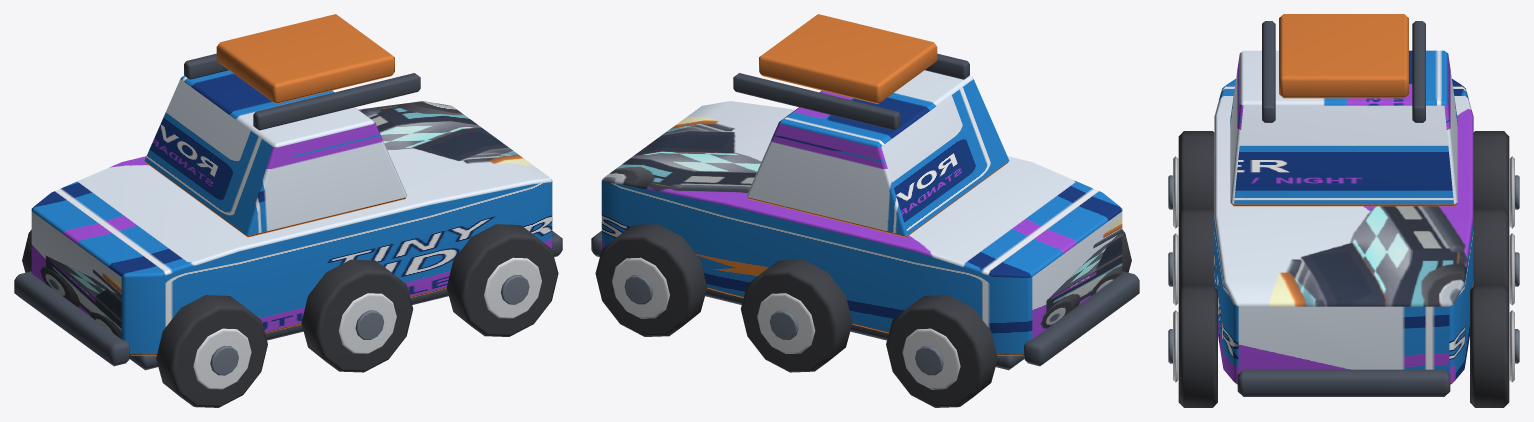
3 views of the same model, side by side, from view 1: azimuth 30°, elevation 25°; view 2: azimuth 150°, elevation 25°; view 3: azimuth 270°, elevation 25° (orthographic). The views are drawn at different scales.
Visible parts, largest first — view 1: FF-04_connected_shell, FF-04_cabin, utility load, Tire, Tire.002, Tire.004, front bumper, utility rail, Rim, Rim.004, Rim.002, underbody (+4 smaller); view 2: FF-04_connected_shell, FF-04_cabin, utility load, Tire.001, Tire.003, Tire.005, front bumper, utility rail.001, Rim.001, Rim.005, Rim.003, underbody (+4 smaller); view 3: FF-04_connected_shell, FF-04_cabin, utility load, rear bumper, Tire.004, Tire.005, Tire.002, Tire.003, Tire, Tire.001, utility rail, utility rail.001 (+6 smaller).
Part boxes in pixels (x1=…): FF-04_connected_shell: x1=31, y1=101, x2=552, y2=355; FF-04_cabin: x1=144, y1=70, x2=406, y2=237; utility load: x1=216, y1=14, x2=394, y2=103; Tire: x1=156, y1=295, x2=267, y2=407; Tire.002: x1=301, y1=259, x2=413, y2=372; Tire.004: x1=446, y1=224, x2=558, y2=336; front bumper: x1=14, y1=271, x2=130, y2=366; utility rail: x1=253, y1=73, x2=420, y2=130; Rim: x1=193, y1=328, x2=251, y2=389; Rim.004: x1=484, y1=257, x2=541, y2=318; Rim.002: x1=338, y1=293, x2=396, y2=353; underbody: x1=130, y1=288, x2=448, y2=370; FF-04_connected_shell: x1=601, y1=101, x2=1122, y2=355; FF-04_cabin: x1=747, y1=70, x2=1009, y2=237; utility load: x1=759, y1=14, x2=937, y2=103; Tire.001: x1=886, y1=295, x2=997, y2=407; Tire.003: x1=740, y1=259, x2=852, y2=372; Tire.005: x1=595, y1=224, x2=707, y2=336; front bumper: x1=1023, y1=271, x2=1139, y2=366; utility rail.001: x1=733, y1=73, x2=900, y2=130; Rim.001: x1=902, y1=328, x2=960, y2=389; Rim.005: x1=612, y1=257, x2=669, y2=318; Rim.003: x1=757, y1=293, x2=815, y2=353; underbody: x1=705, y1=288, x2=1023, y2=370; FF-04_connected_shell: x1=1214, y1=79, x2=1473, y2=384; FF-04_cabin: x1=1230, y1=50, x2=1457, y2=206; utility load: x1=1279, y1=14, x2=1408, y2=98; rear bumper: x1=1237, y1=369, x2=1450, y2=396; Tire.004: x1=1178, y1=284, x2=1217, y2=407; Tire.005: x1=1470, y1=284, x2=1509, y2=407; Tire.002: x1=1178, y1=207, x2=1214, y2=289; Tire.003: x1=1473, y1=207, x2=1509, y2=289; Tire: x1=1178, y1=131, x2=1214, y2=212; Tire.001: x1=1473, y1=131, x2=1509, y2=212; utility rail: x1=1262, y1=21, x2=1275, y2=122; utility rail.001: x1=1412, y1=21, x2=1425, y2=122.
Bounding box in the file's own units: 378 × 212 × 233.
